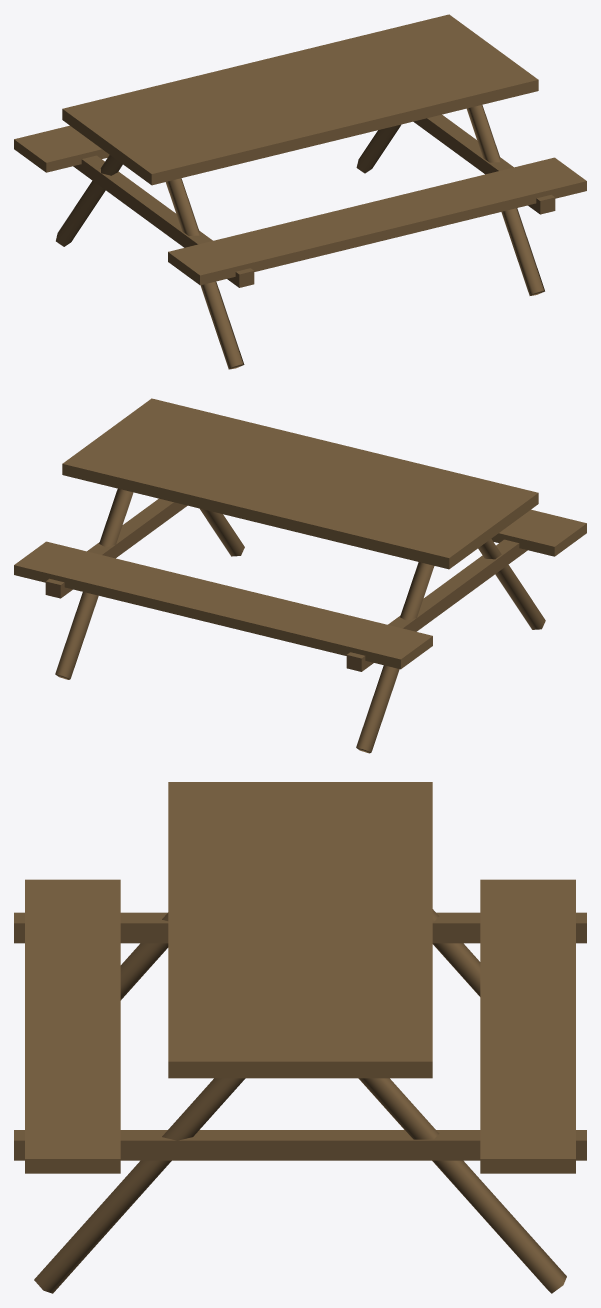
Rendered from street.furniture.dales_picnic_table.glb.
3 views of the same model, one above another, from view 1: azimuth 30°, elevation 25°; view 2: azimuth 150°, elevation 25°; view 3: azimuth 270°, elevation 25° (orthographic). The views are drawn at different scales.
Visible parts, largest first — view 1: main__paint_764, main__paint_754; view 2: main__paint_764, main__paint_754; view 3: main__paint_764, main__paint_754.
Boxes of the visible parts, bbox=[...] form: main__paint_764: bbox=[14, 14, 586, 285]; main__paint_754: bbox=[56, 105, 555, 369]; main__paint_764: bbox=[14, 398, 586, 669]; main__paint_754: bbox=[45, 488, 545, 753]; main__paint_764: bbox=[25, 782, 575, 1173]; main__paint_754: bbox=[14, 909, 586, 1293].
Bounding box in the file's own units: 1.8 × 0.786 × 1.56.
